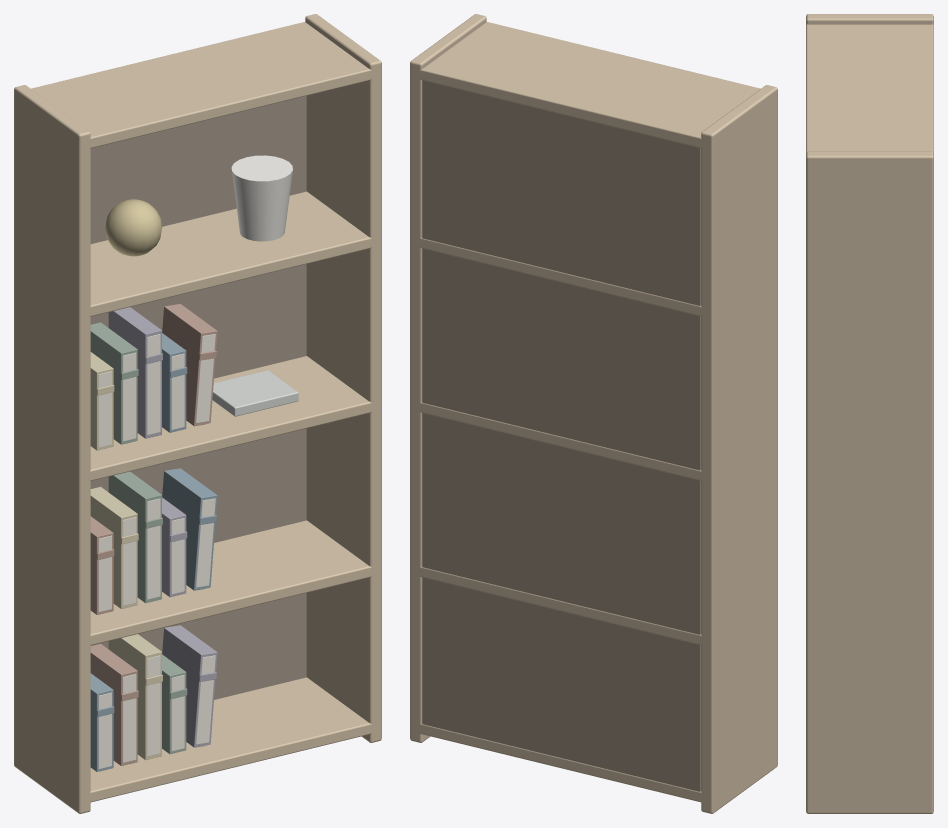
The model's file is bookcase.glb.
3 renders of one model, left to right at view 1: azimuth 30°, elevation 25°; view 2: azimuth 150°, elevation 25°; view 3: azimuth 270°, elevation 25°, orthographic. The views are drawn at different scales.
Parts seen in each view (by area): view 1: bookcase; view 2: bookcase; view 3: bookcase.
Part boxes in pixels (box(x1,y1,x2,y2)): bookcase: box(14, 14, 381, 813); bookcase: box(410, 14, 777, 813); bookcase: box(806, 14, 933, 813).
Bounding box in the file's own units: 0.85 × 1.82 × 0.32.
